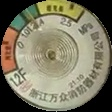green: (7, 4, 43, 29)
needle: (24, 7, 44, 32)
red: (2, 28, 23, 75)
yellow: (36, 2, 87, 23)
